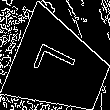L_SE: (34, 43, 86, 92)
